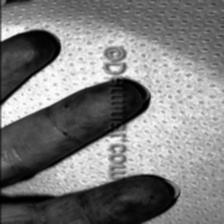Unclassified: (61, 101, 94, 135), (101, 189, 158, 207)
